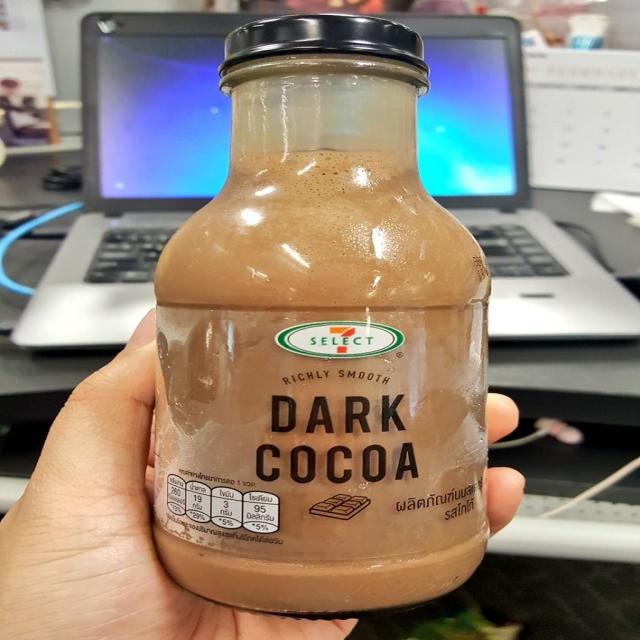glass-bottle: (143, 8, 530, 630)
